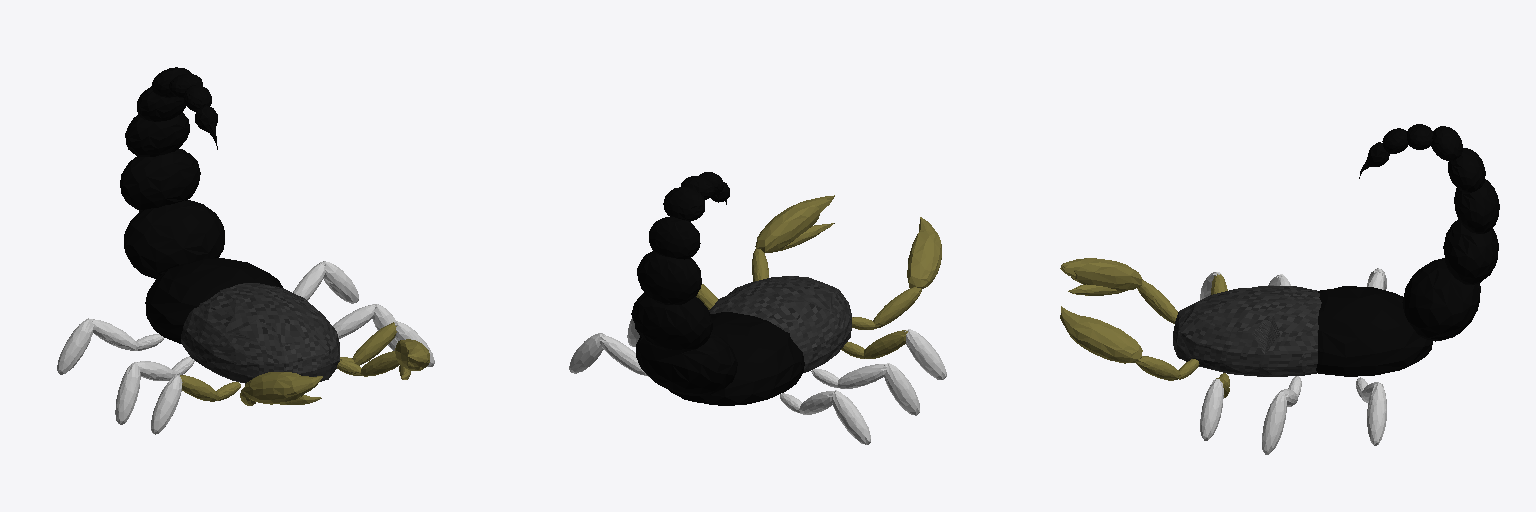
3 renders of one model, left to right at view 1: azimuth 30°, elevation 25°; view 2: azimuth 150°, elevation 25°; view 3: azimuth 270°, elevation 25°, orthographic.
Visible parts, largest first — view 1: Sphere.010_Sphere.012, Sphere.002_Sphere.004, Sphere.011_Sphere.013, Sphere.003_Sphere.005, Sphere.030_Sphere.000, Sphere.004_Sphere.006, Sphere.014_Sphere.023, Sphere.012_Sphere.020, Sphere.000_Sphere.019, Sphere.013_Sphere.017, Sphere.018_Sphere.025, Sphere.016_Sphere.022 (+5 smaller); view 2: Sphere.010_Sphere.012, Sphere.011_Sphere.013, Sphere.002_Sphere.004, Sphere.030_Sphere.000, Sphere.003_Sphere.005, Sphere.004_Sphere.006, Sphere.014_Sphere.023, Sphere.005_Sphere.007, Sphere.018_Sphere.025, Sphere.028_Sphere.046, Sphere.012_Sphere.020, Sphere.006_Sphere.008 (+3 smaller); view 3: Sphere.010_Sphere.012, Sphere.011_Sphere.013, Sphere.002_Sphere.004, Sphere.030_Sphere.000, Sphere.003_Sphere.005, Sphere.004_Sphere.006, Sphere.028_Sphere.046, Sphere.000_Sphere.019, Sphere.005_Sphere.007, Sphere.012_Sphere.020, Sphere.014_Sphere.023, Sphere.006_Sphere.008 (+1 smaller).
Part boxes in pixels (x1,y1,x2,y2): Sphere.010_Sphere.012: (181, 283, 339, 383); Sphere.002_Sphere.004: (124, 200, 224, 278); Sphere.011_Sphere.013: (145, 258, 282, 343); Sphere.003_Sphere.005: (120, 149, 200, 210); Sphere.030_Sphere.000: (244, 339, 429, 404); Sphere.004_Sphere.006: (125, 112, 189, 156); Sphere.014_Sphere.023: (57, 261, 358, 374); Sphere.012_Sphere.020: (115, 304, 397, 424); Sphere.000_Sphere.019: (151, 321, 434, 434); Sphere.013_Sphere.017: (180, 322, 396, 401); Sphere.018_Sphere.025: (92, 262, 325, 350); Sphere.016_Sphere.022: (134, 305, 374, 380); Sphere.010_Sphere.012: (709, 276, 851, 372); Sphere.011_Sphere.013: (669, 312, 804, 405); Sphere.002_Sphere.004: (636, 331, 737, 395); Sphere.030_Sphere.000: (755, 195, 941, 288); Sphere.003_Sphere.005: (631, 293, 712, 352); Sphere.004_Sphere.006: (637, 251, 701, 304); Sphere.014_Sphere.023: (569, 333, 870, 444); Sphere.005_Sphere.007: (649, 217, 700, 259); Sphere.018_Sphere.025: (600, 335, 833, 414); Sphere.028_Sphere.046: (752, 248, 921, 328); Sphere.012_Sphere.020: (627, 318, 919, 415); Sphere.006_Sphere.008: (663, 187, 704, 221); Sphere.010_Sphere.012: (1173, 286, 1321, 376); Sphere.011_Sphere.013: (1316, 286, 1432, 376); Sphere.002_Sphere.004: (1402, 258, 1480, 341); Sphere.030_Sphere.000: (1060, 258, 1142, 363); Sphere.003_Sphere.005: (1443, 219, 1498, 284); Sphere.004_Sphere.006: (1454, 179, 1499, 233); Sphere.028_Sphere.046: (1135, 280, 1180, 380); Sphere.000_Sphere.019: (1200, 272, 1223, 440); Sphere.005_Sphere.007: (1448, 148, 1485, 192); Sphere.012_Sphere.020: (1262, 274, 1286, 454); Sphere.014_Sphere.023: (1367, 268, 1386, 445); Sphere.006_Sphere.008: (1431, 126, 1462, 160).
Bounding box in the file's own units: 0.956 × 0.7876 × 1.21.
7 materials, 2 textured.